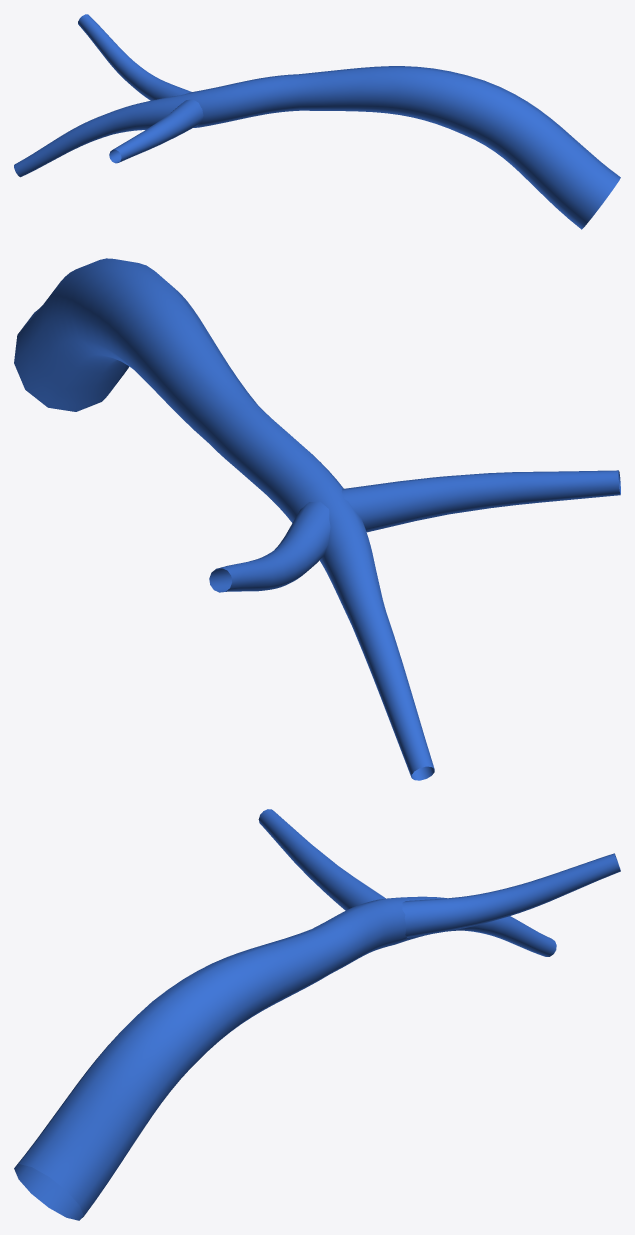
Rendered from circulatorio-posterior-segmental-artery-of-right-lung.glb.
3 renders of one model, top to bottom at view 1: azimuth 30°, elevation 25°; view 2: azimuth 150°, elevation 25°; view 3: azimuth 270°, elevation 25°, orthographic. The views are drawn at different scales.
Visible parts, largest first — view 1: Posterior segmental artery of right lung; view 2: Posterior segmental artery of right lung; view 3: Posterior segmental artery of right lung.
Part boxes in pixels (bbox=[...]): Posterior segmental artery of right lung: bbox=[14, 14, 620, 229]; Posterior segmental artery of right lung: bbox=[14, 258, 620, 780]; Posterior segmental artery of right lung: bbox=[14, 809, 620, 1220].
Size of the model in its own units: 0.0683 by 0.0211 by 0.063.
